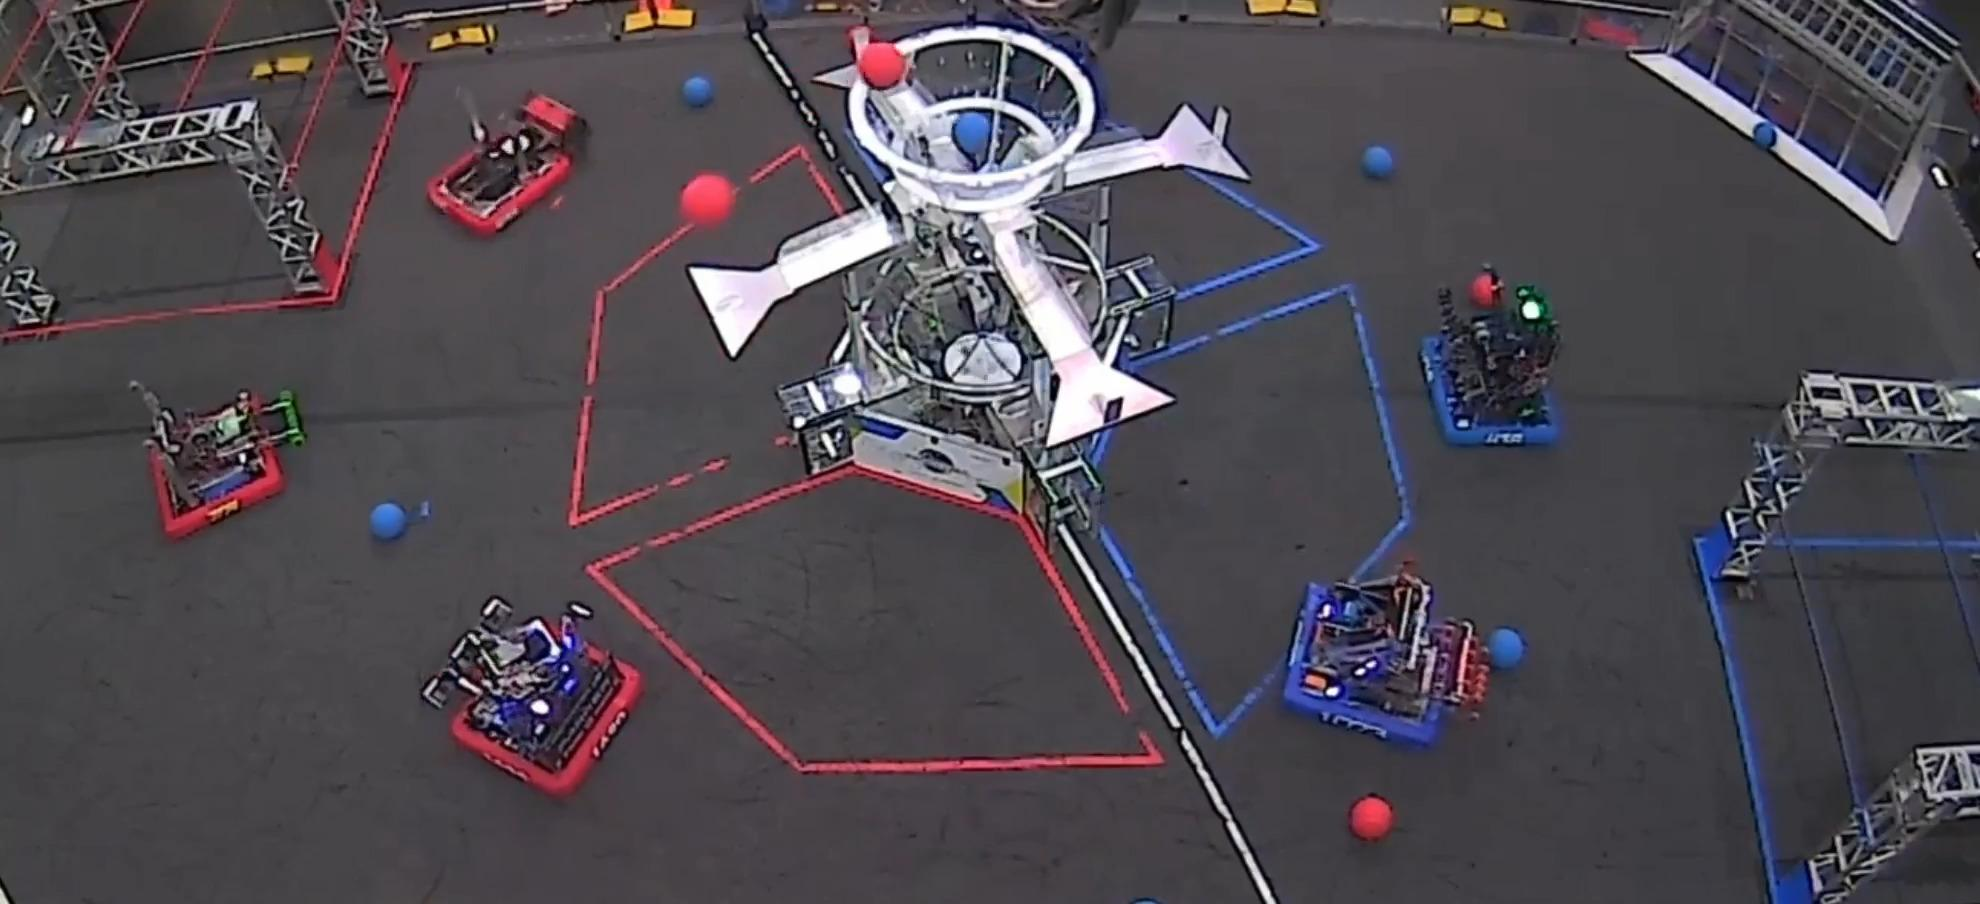Robots: (420, 598, 641, 795), (1283, 564, 1488, 745), (129, 381, 306, 538), (1422, 265, 1560, 444), (428, 93, 587, 236), (993, 8, 1110, 131)
